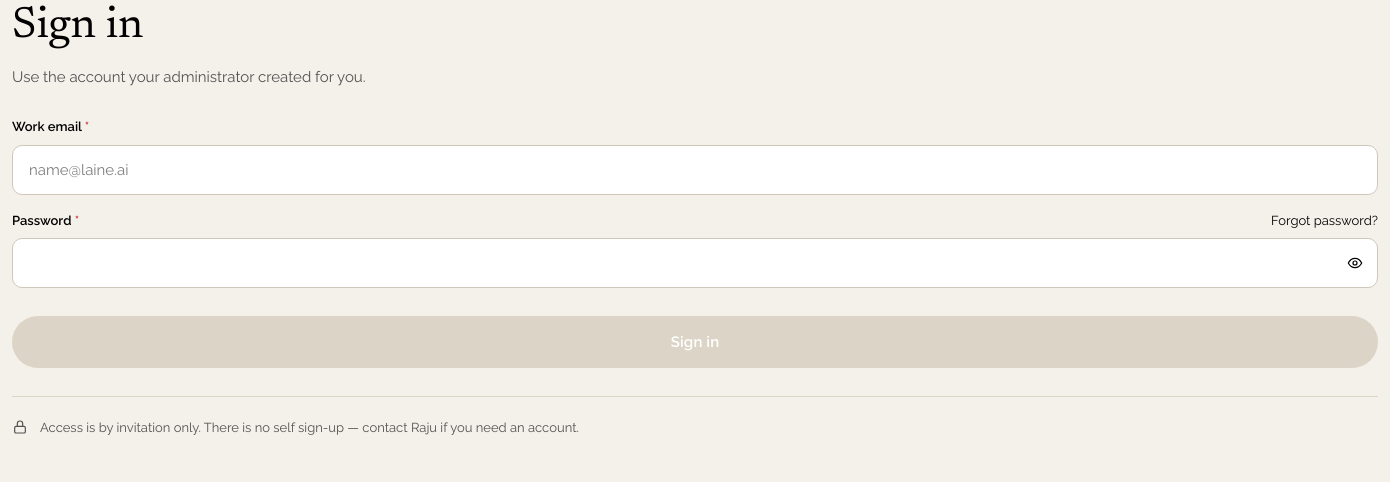
Test: SignInForm › wrong credentials show one message and mark the password invalid
Type "raju@laine.ai" into the field labelled "Work email *" at (695, 170), box left=13, top=146, right=1377, bottom=194
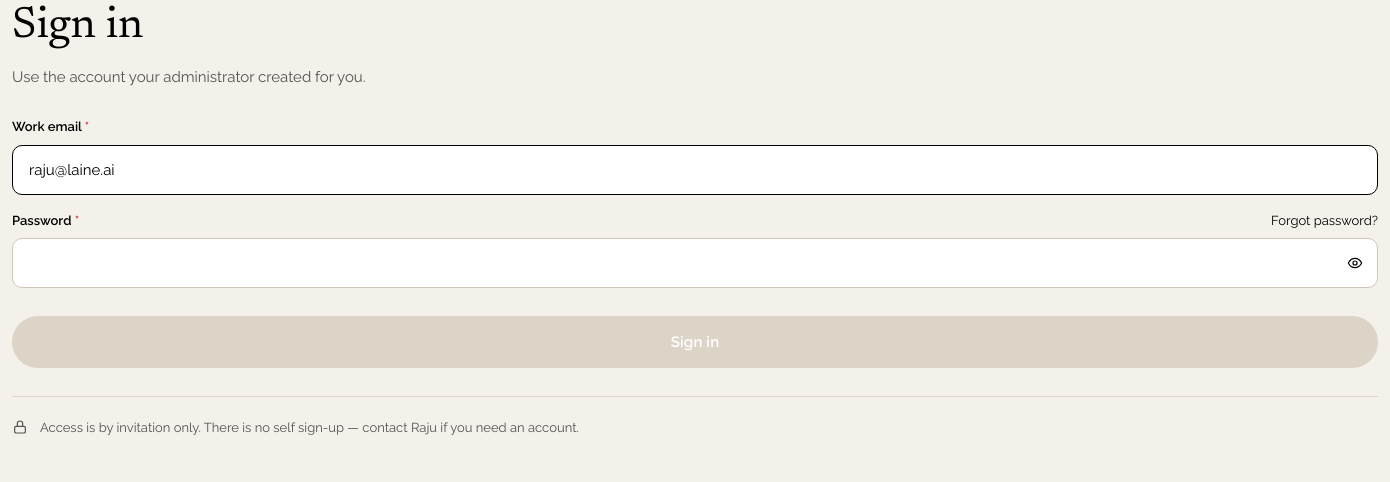
Type "correct horse" into the password field labelled "Password *" at (676, 263), box left=13, top=239, right=1339, bottom=287
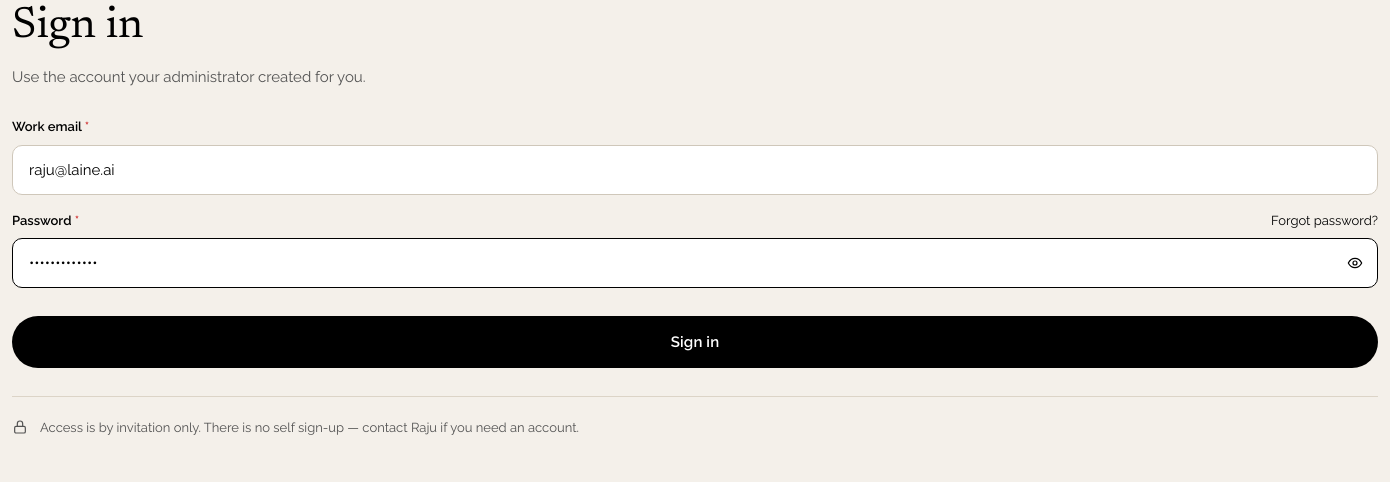
Click the button "Sign in" at (695, 342), box left=12, top=316, right=1378, bottom=368
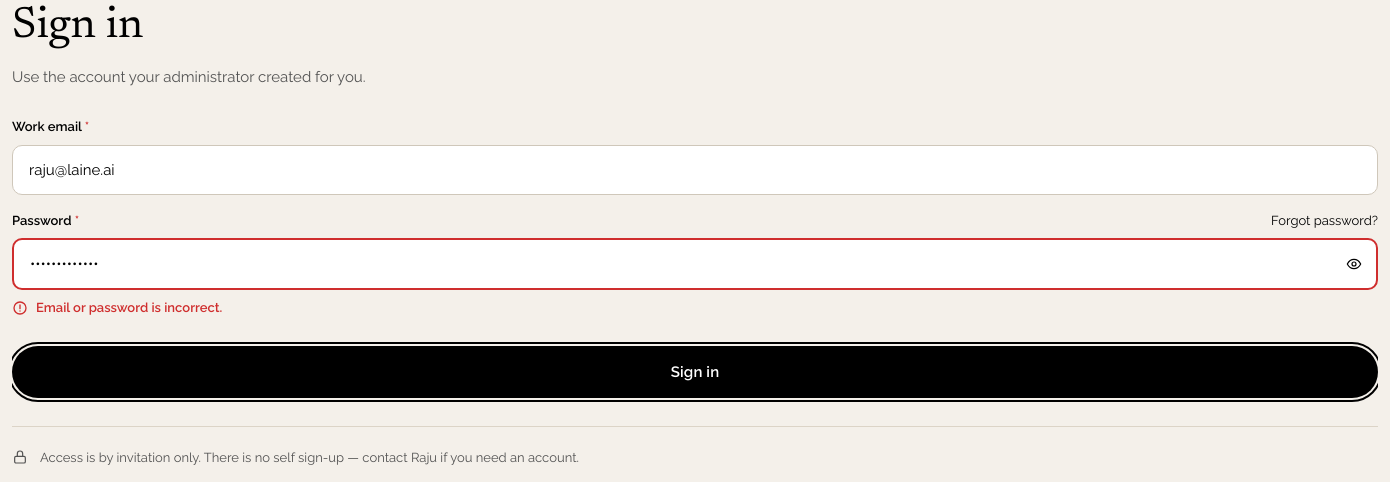
Expected: the text "Email or password is incorrect." is shown, left=36, top=298, right=222, bottom=318
